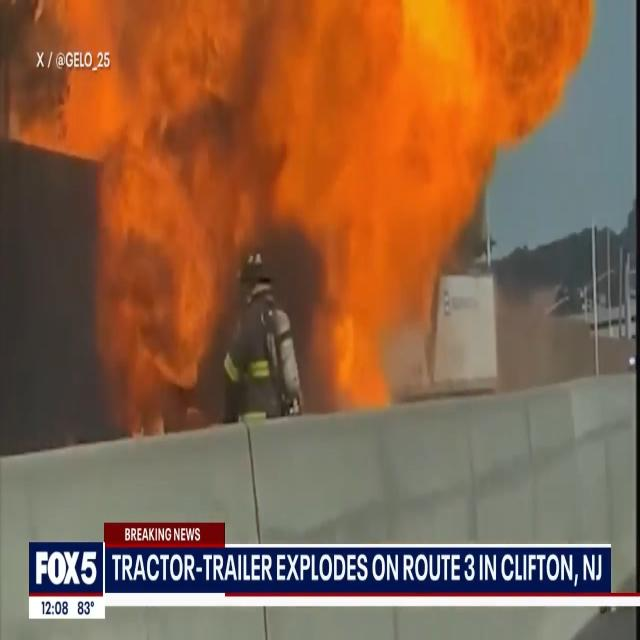fire: (35, 3, 226, 422), (239, 4, 516, 212), (298, 195, 456, 376)
